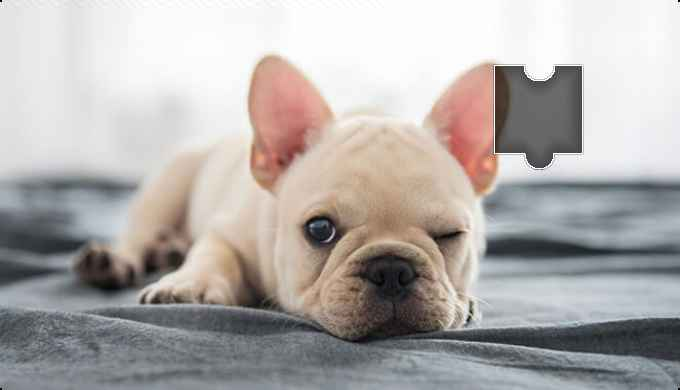gap: (495, 65, 582, 171)
